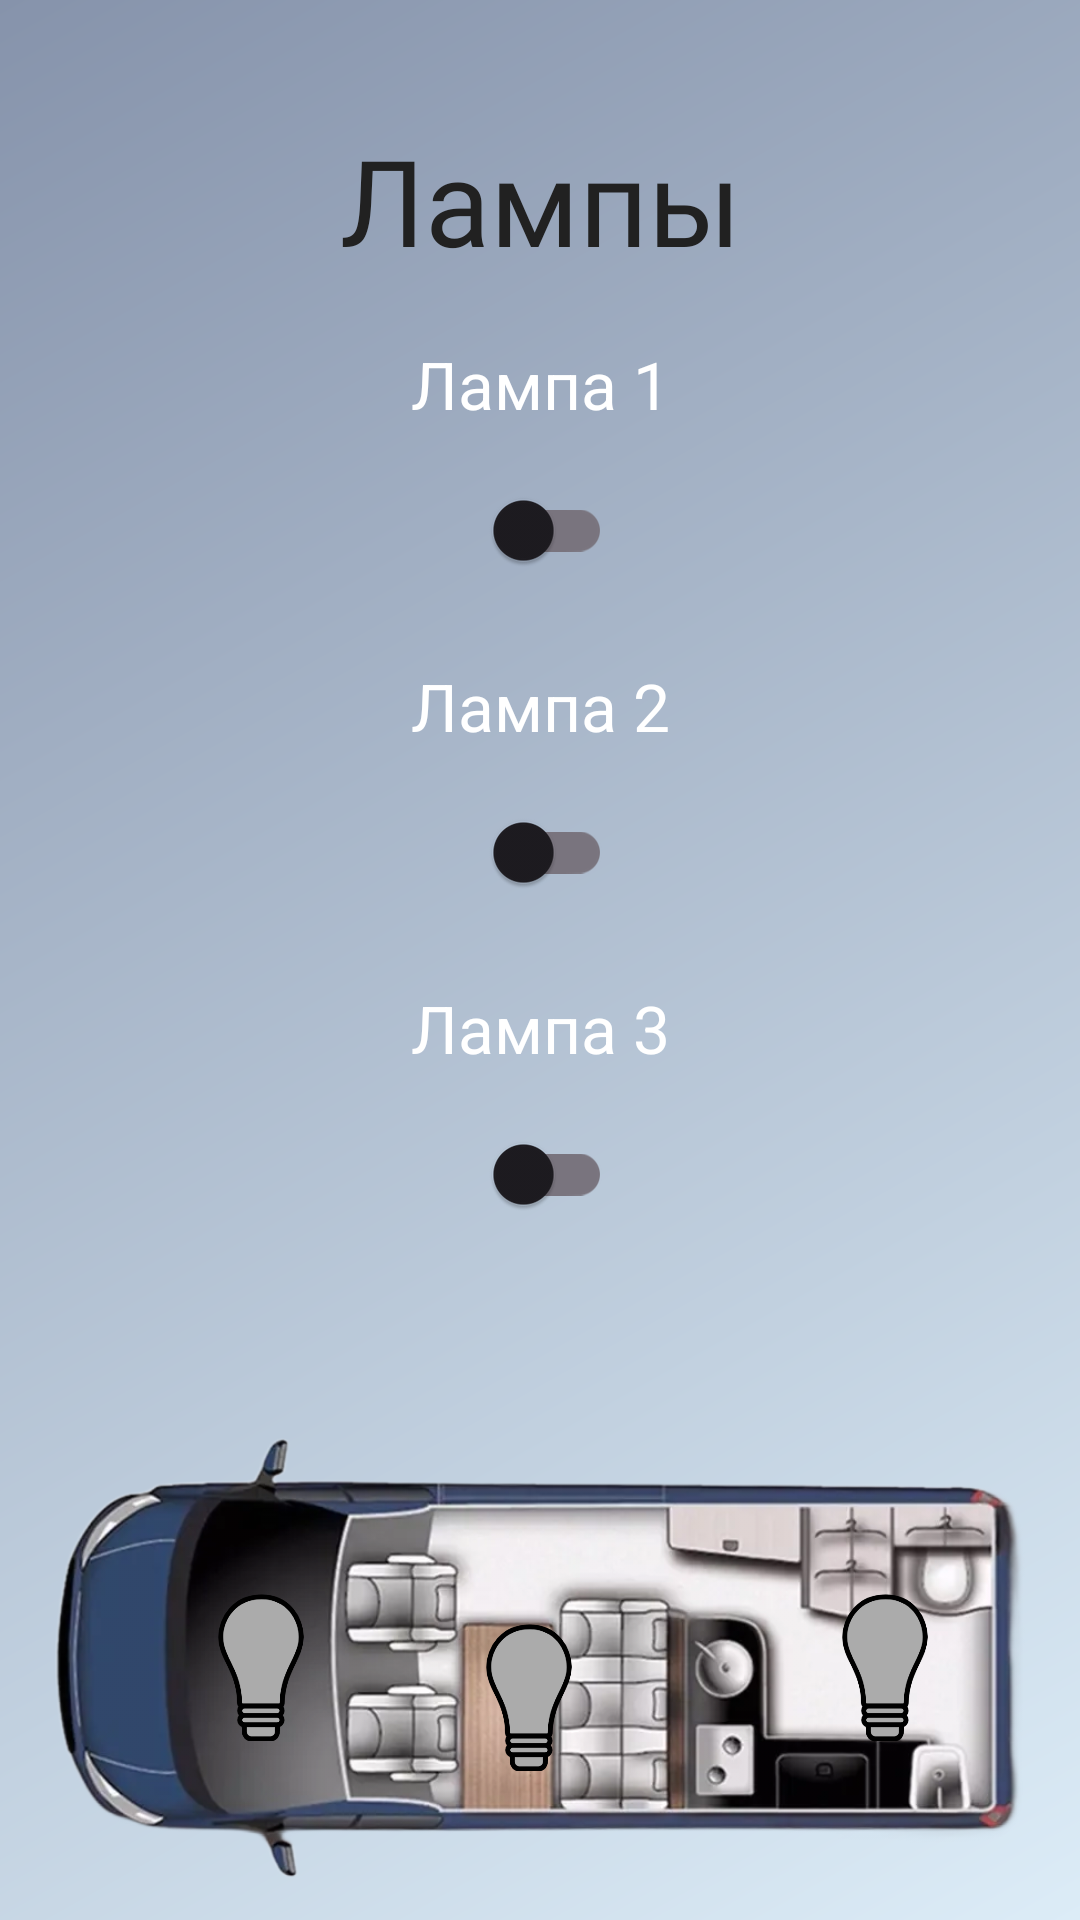

Icon click points for this 1080 × 1920 phone screenshot, format point (x, y):
lamp off: point (261, 1666), point (885, 1666), point (529, 1696)
